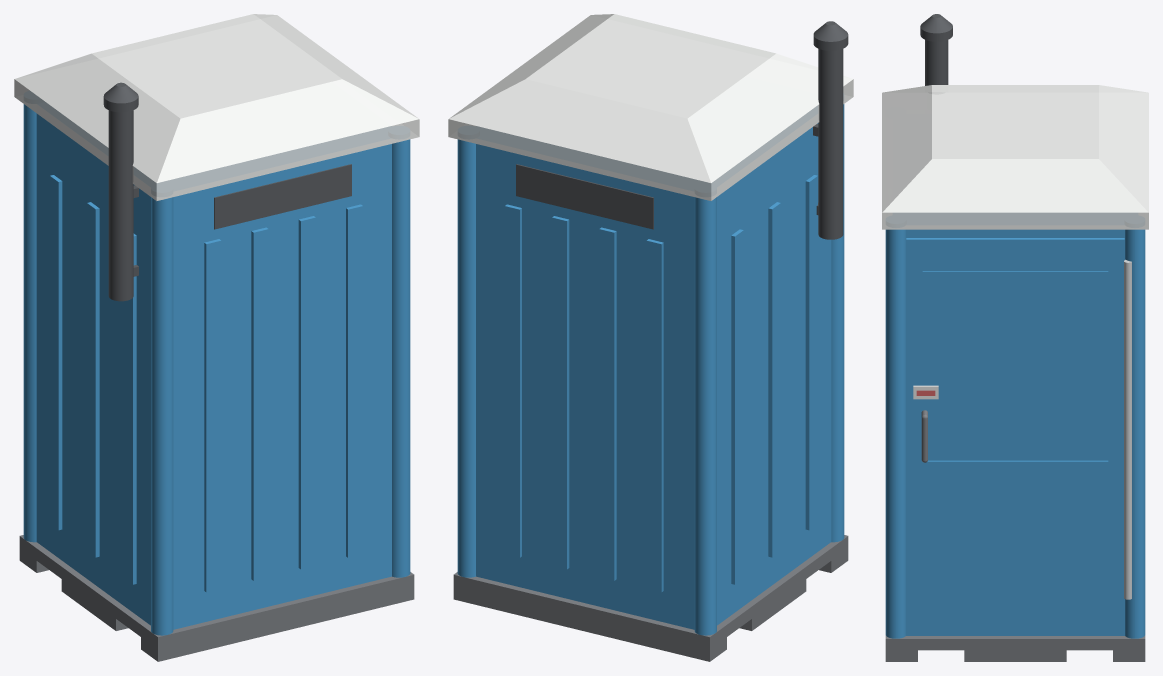
Rendered from porta-potty-cad.glb.
3 views of the same model, side by side, from view 1: azimuth 30°, elevation 25°; view 2: azimuth 150°, elevation 25°; view 3: azimuth 270°, elevation 25° (orthographic). The views are drawn at different scales.
Visible parts, largest first — view 1: shell, roof, base, vents; view 2: shell, roof, base, vents; view 3: shell, roof, base, hinge, vents.
Part boxes in pixels (x1=…): shell: x1=23, y1=104, x2=410, y2=635; roof: x1=14, y1=14, x2=419, y2=200; base: x1=19, y1=535, x2=414, y2=661; vents: x1=103, y1=82, x2=351, y2=301; shell: x1=457, y1=104, x2=844, y2=635; roof: x1=448, y1=14, x2=853, y2=200; base: x1=453, y1=535, x2=848, y2=661; vents: x1=516, y1=21, x2=848, y2=239; shell: x1=885, y1=229, x2=1145, y2=638; roof: x1=882, y1=85, x2=1148, y2=229; base: x1=885, y1=410, x2=1145, y2=661; hinge: x1=1124, y1=259, x2=1131, y2=599; vents: x1=920, y1=14, x2=952, y2=85.
Bounding box in the file's own units: 1.36 × 2.49 × 1.15.
